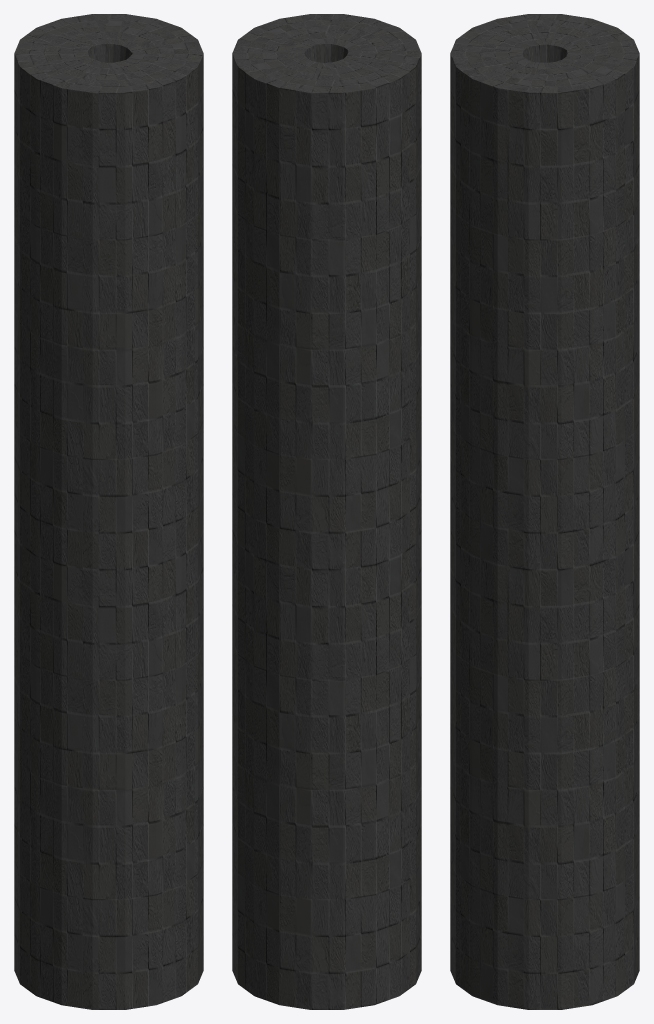
File: Field.FBX
3 views of the same model, side by side, from view 1: azimuth 30°, elevation 25°; view 2: azimuth 150°, elevation 25°; view 3: azimuth 270°, elevation 25° (orthographic).
Visible parts, largest first — view 1: Tube001; view 2: Tube001; view 3: Tube001.
Boxes of the visible parts, bbox=[...] form: Tube001: bbox=[14, 14, 203, 1009]; Tube001: bbox=[232, 14, 421, 1009]; Tube001: bbox=[450, 14, 639, 1009].
Size of the model in its own units: 148 by 805 by 151.
1 material, 1 textured.
